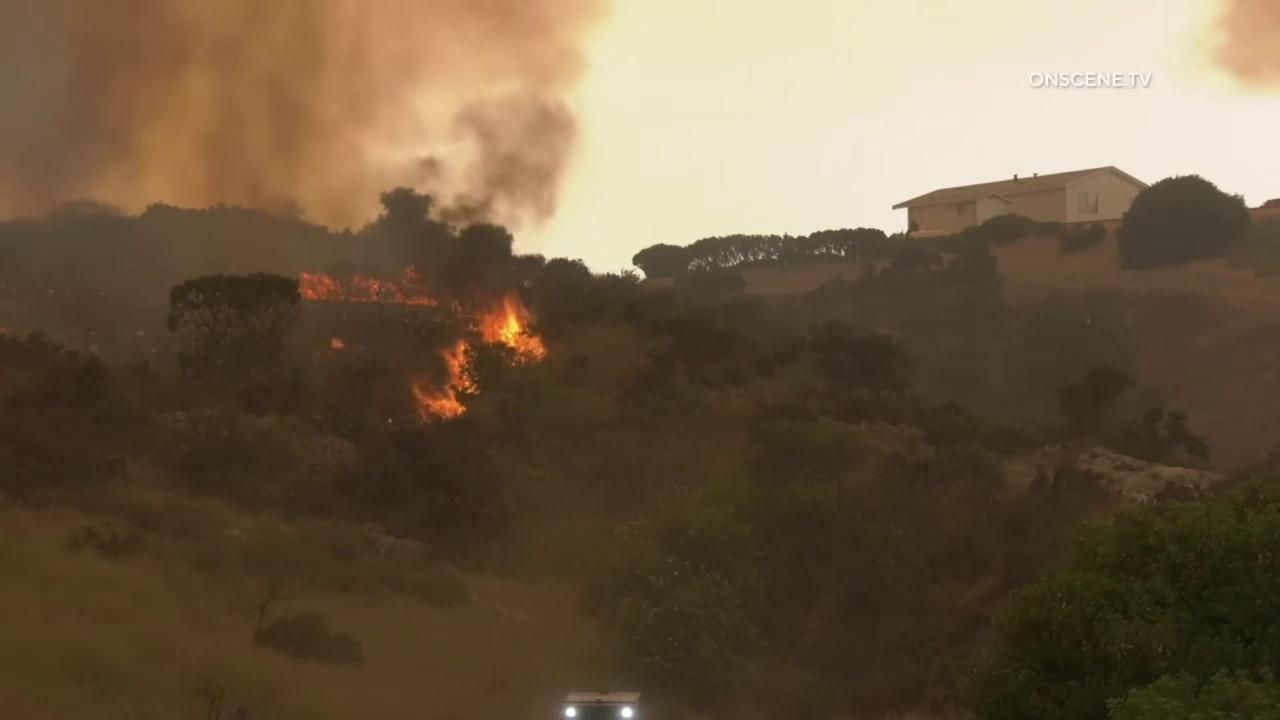fire: (406, 284, 550, 427), (296, 262, 440, 307), (328, 336, 345, 351)
smoke: (0, 0, 614, 426), (1187, 0, 1280, 93)
